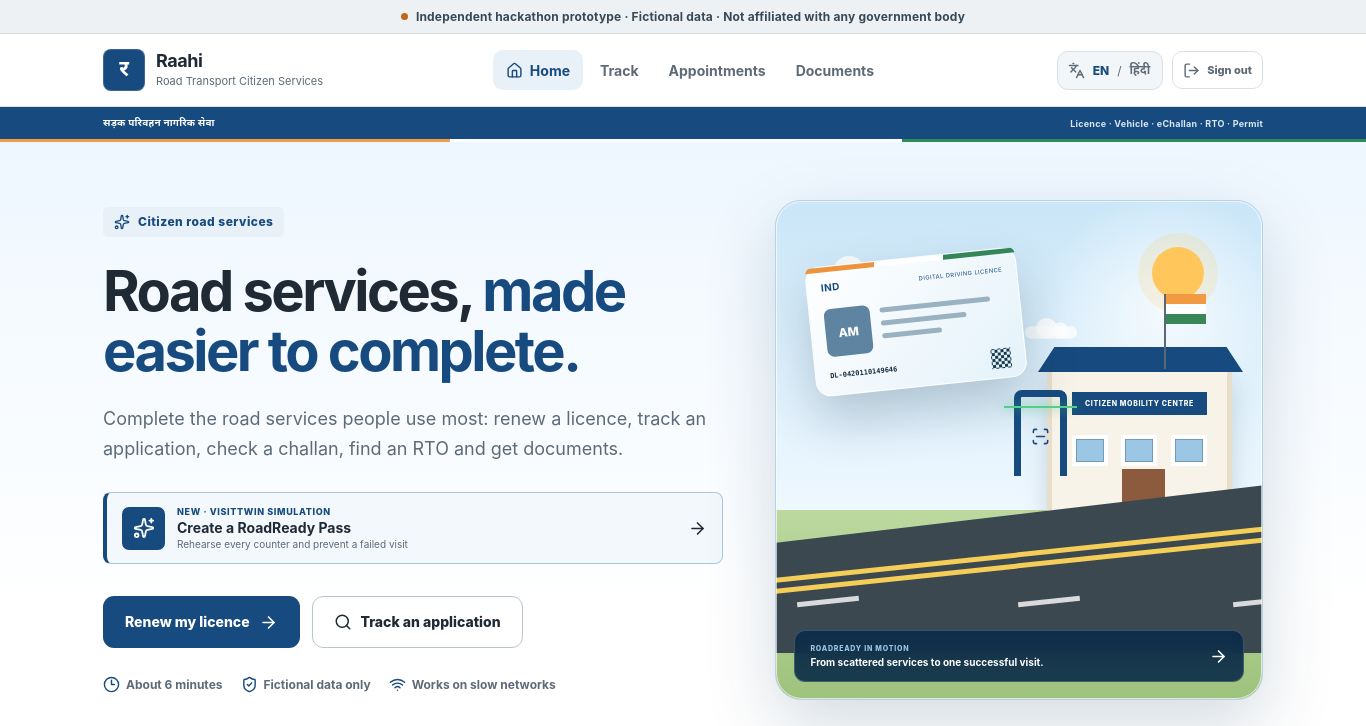
Test: RoadReady one-visit pass › does not restore an expired VisitTwin pass
Click the button "Create a RoadReady Pass" at (144, 528), box [103,492,723,564]
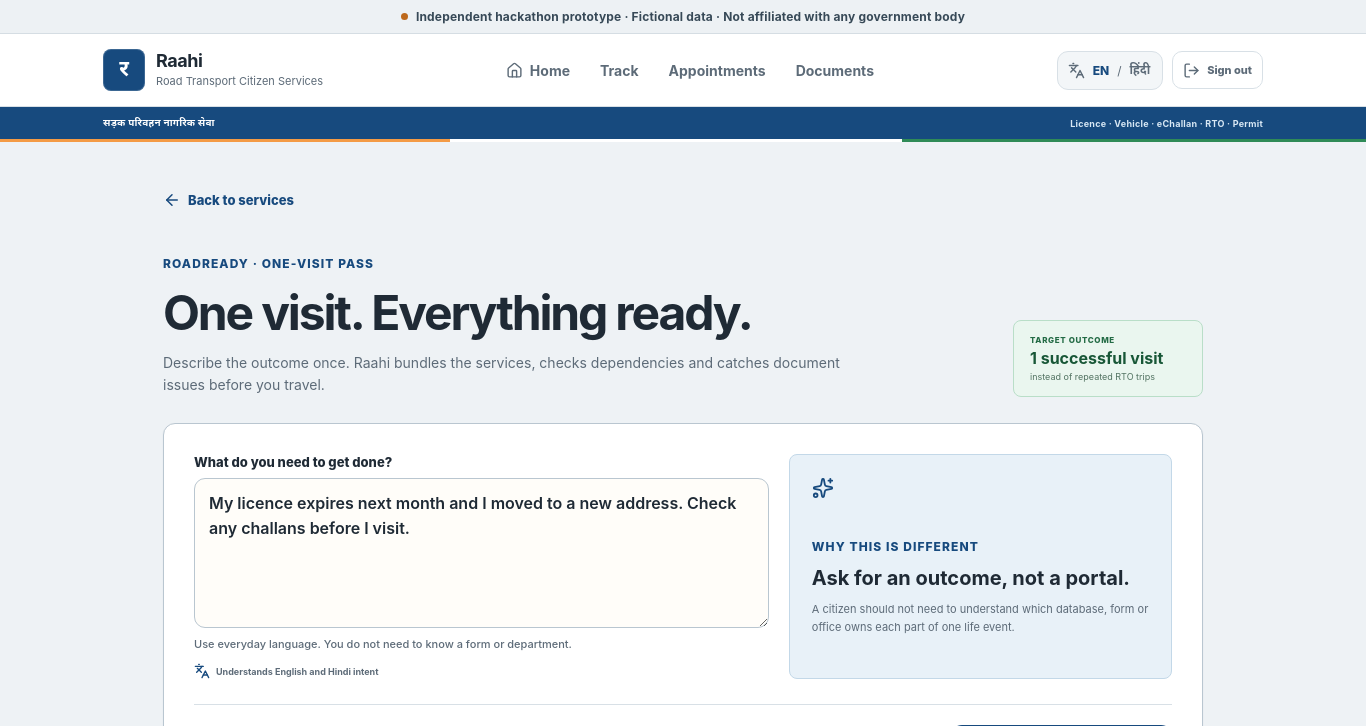
expect the heading "One visit. Everything ready." is shown: met, box [163,283,752,342]
